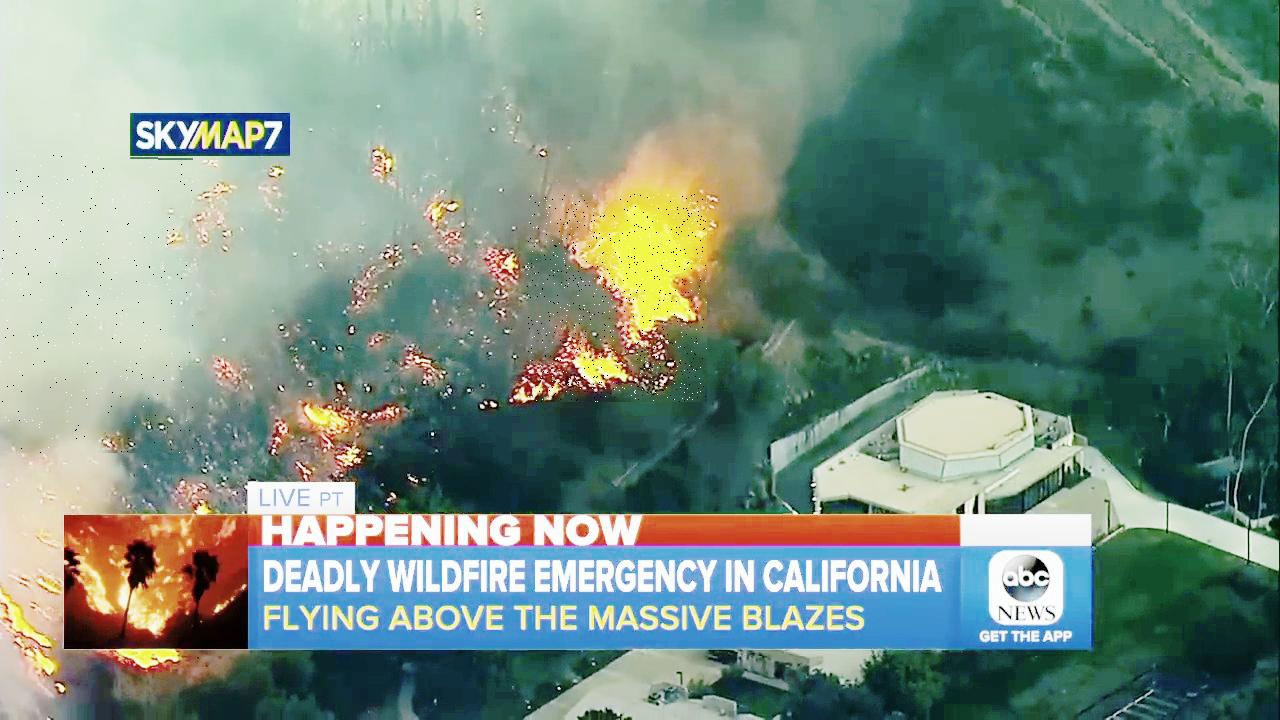fire: (527, 194, 707, 402)
smoke: (0, 154, 193, 453)
